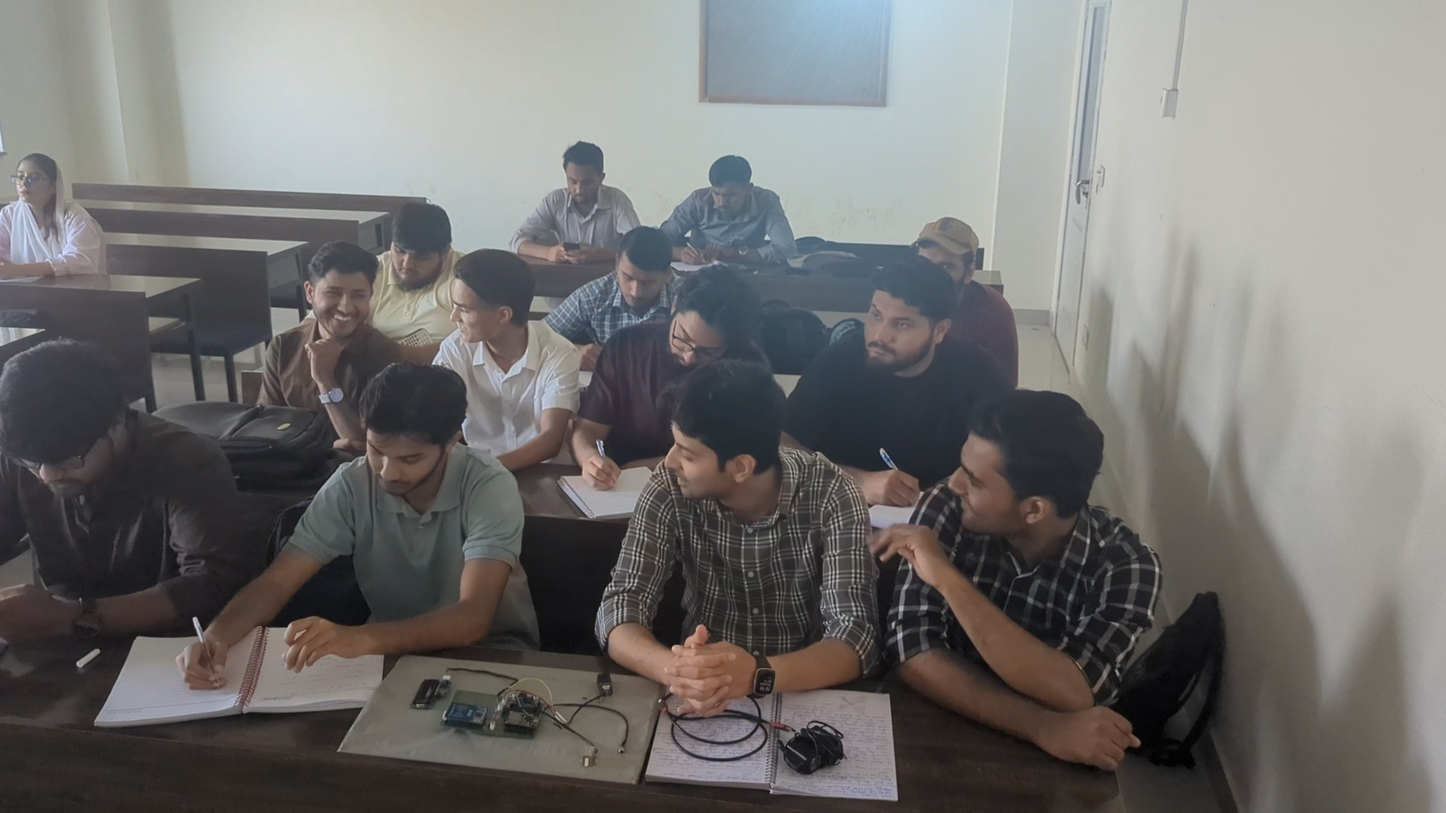look_forward: (834, 253, 984, 386), (274, 240, 380, 410), (920, 210, 1024, 380), (2, 149, 103, 276)
turn_head: (878, 377, 1180, 784), (595, 358, 873, 727), (442, 240, 584, 436)
using_device: (508, 139, 644, 265)
write: (179, 357, 539, 694), (9, 323, 249, 683), (565, 270, 706, 495), (664, 144, 799, 266), (353, 199, 455, 343), (565, 237, 694, 332)
